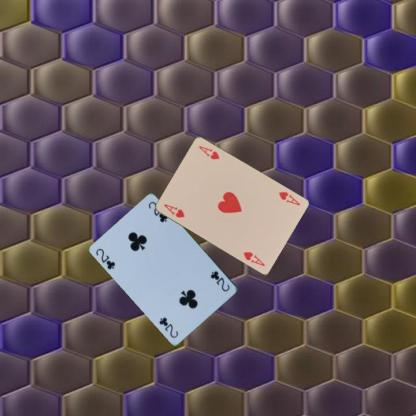2c: (208, 269, 231, 293), (93, 246, 116, 270)
Ah: (161, 201, 186, 219), (276, 189, 301, 207)
